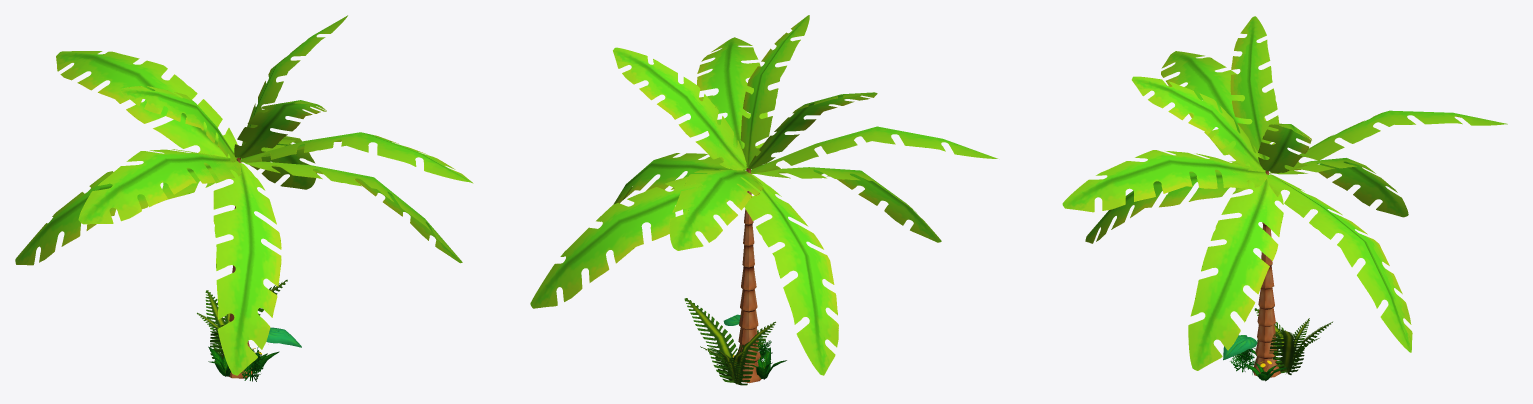
Rendered from plant asset.dae.
3 views of the same model, side by side, from view 1: azimuth 30°, elevation 25°; view 2: azimuth 150°, elevation 25°; view 3: azimuth 270°, elevation 25° (orthographic). The views are drawn at different scales.
Parts seen in each view (by area): view 1: _6, _4, _3; view 2: _6, _4; view 3: _6, _4, _3.
Part boxes in pixels (x1=…): _6: x1=15, y1=15, x2=473, y2=378; _4: x1=197, y1=279, x2=287, y2=361; _3: x1=256, y1=327, x2=301, y2=373; _6: x1=530, y1=15, x2=997, y2=383; _4: x1=684, y1=298, x2=775, y2=385; _6: x1=1062, y1=16, x2=1507, y2=377; _4: x1=1254, y1=308, x2=1332, y2=374; _3: x1=1223, y1=335, x2=1257, y2=374.
Size of the model in its own units: 30.76 by 33.29 by 23.02.
1 material, 1 textured.
